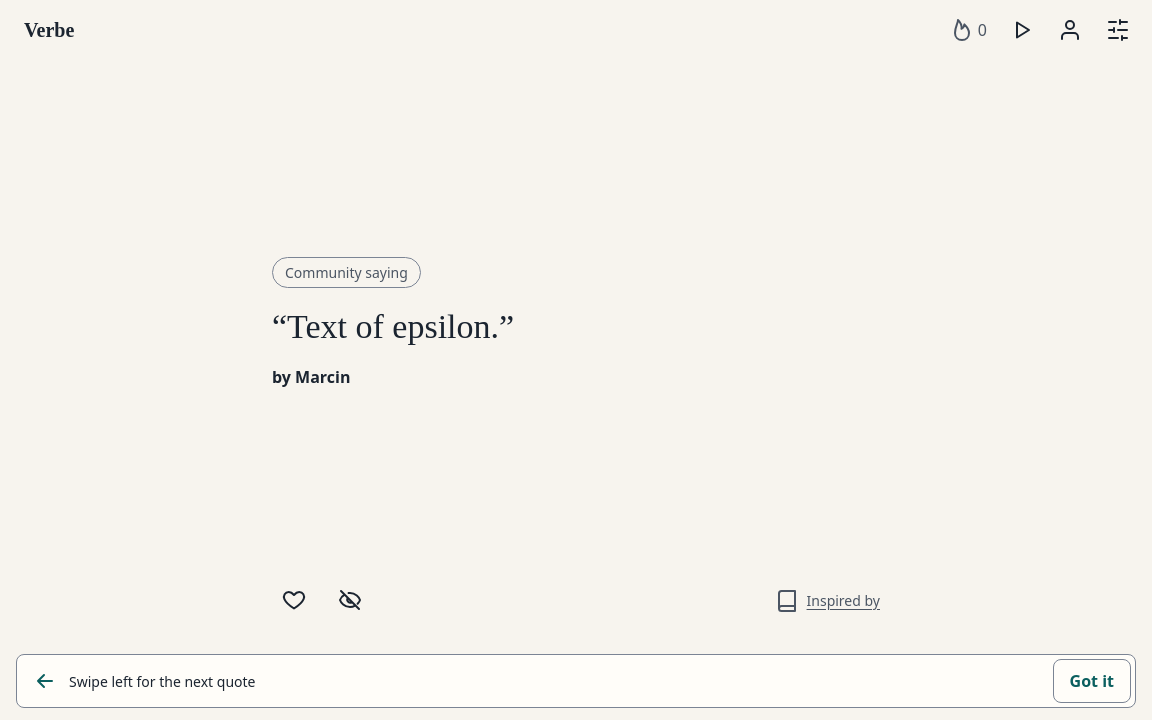
Test: source filter › limits the feed to own quotes, and lets go when none are left
This screenshot has width=1152, height=720.
Click the 3rd button named "Settings": (1118, 30) [1096,8,1140,52]
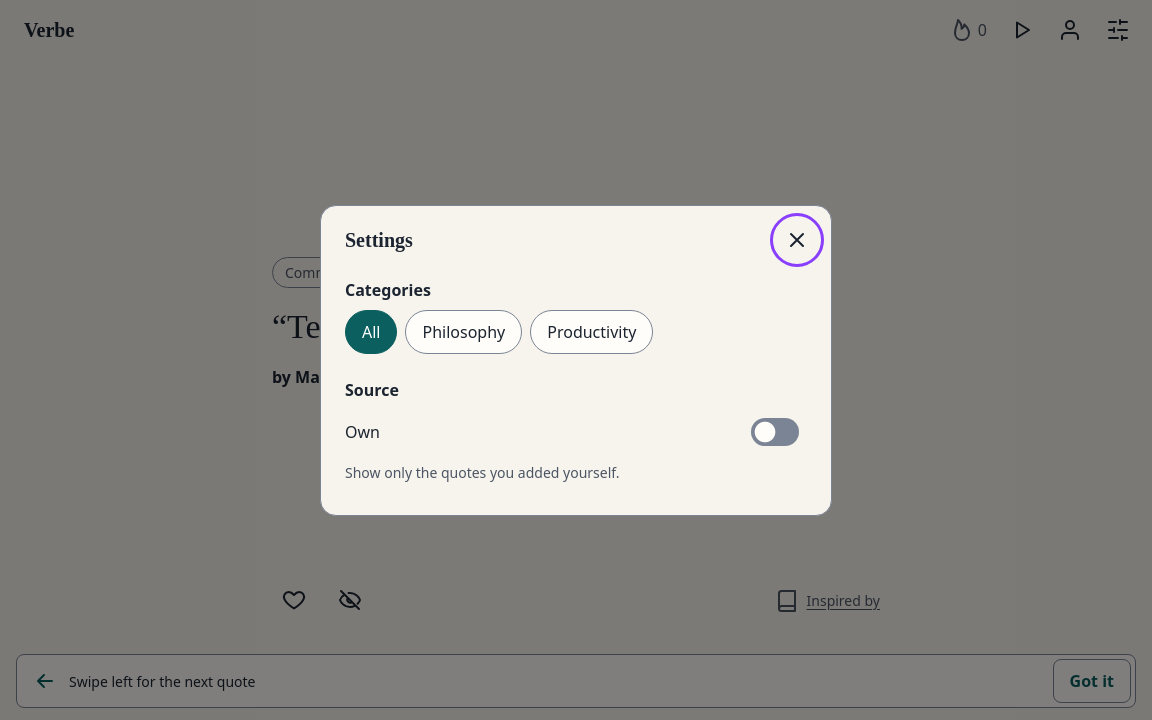
Click the switch labelled "Own": (775, 432) [743,410,807,454]
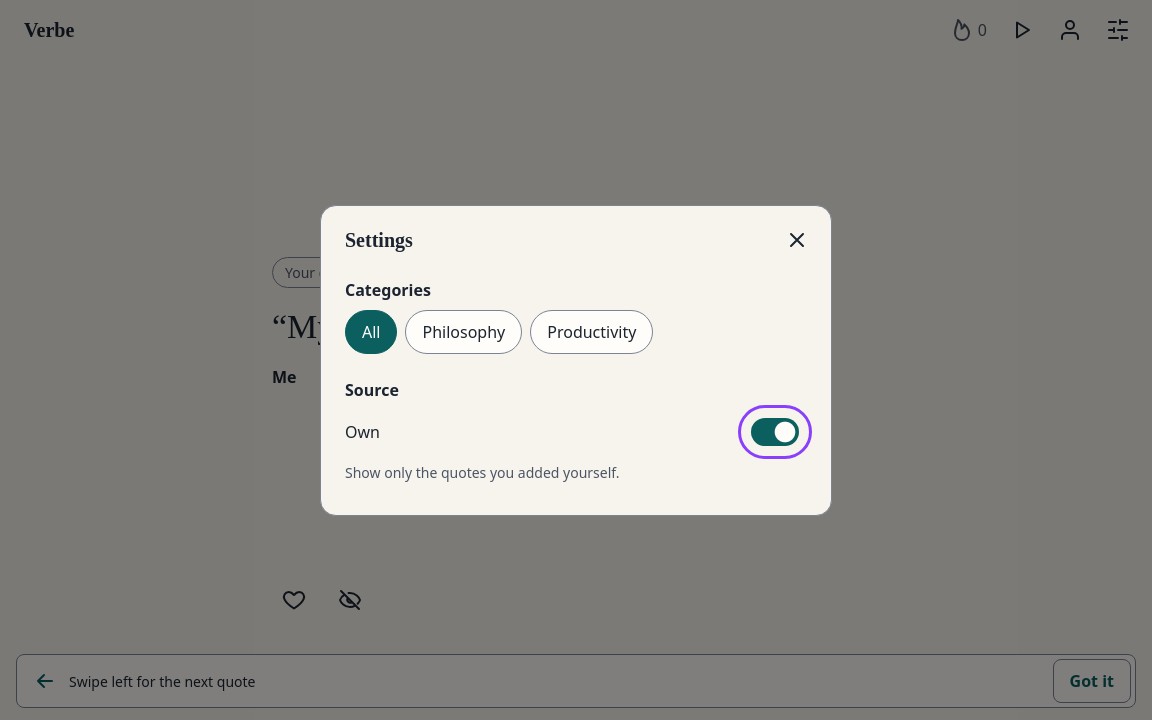
Click the switch labelled "Own": (775, 432) [743,410,807,454]
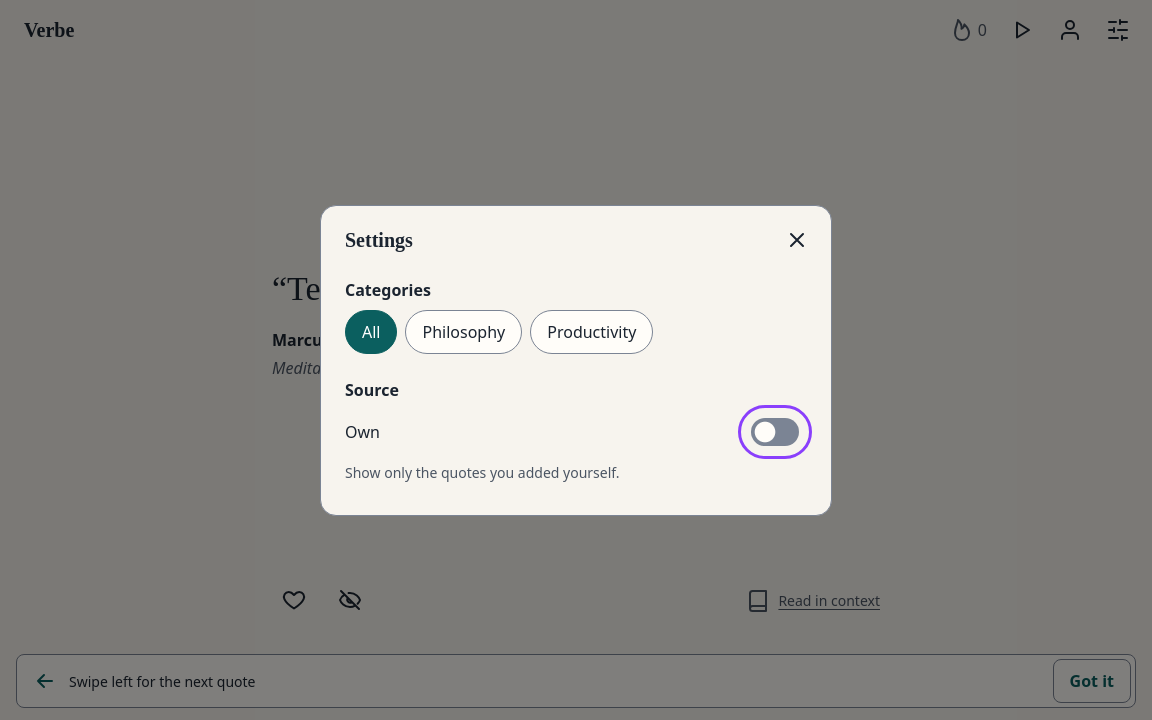
Click the switch labelled "Own": (775, 432) [743,410,807,454]
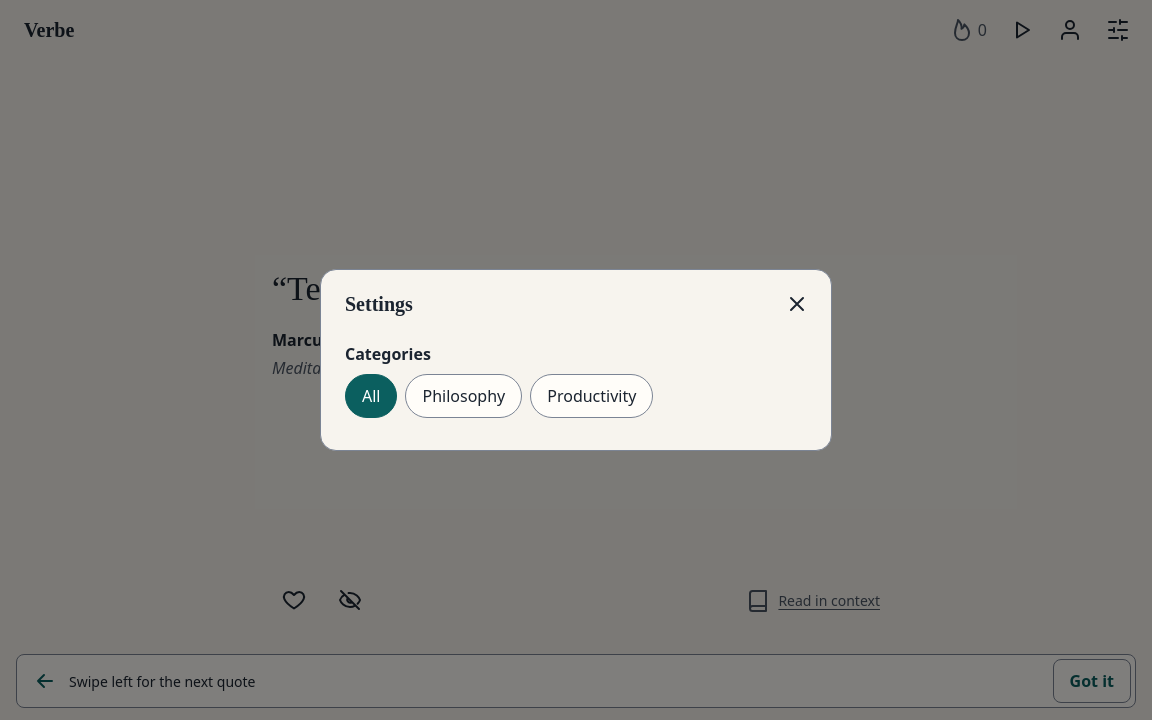
Expected: the text "Source" is gone
